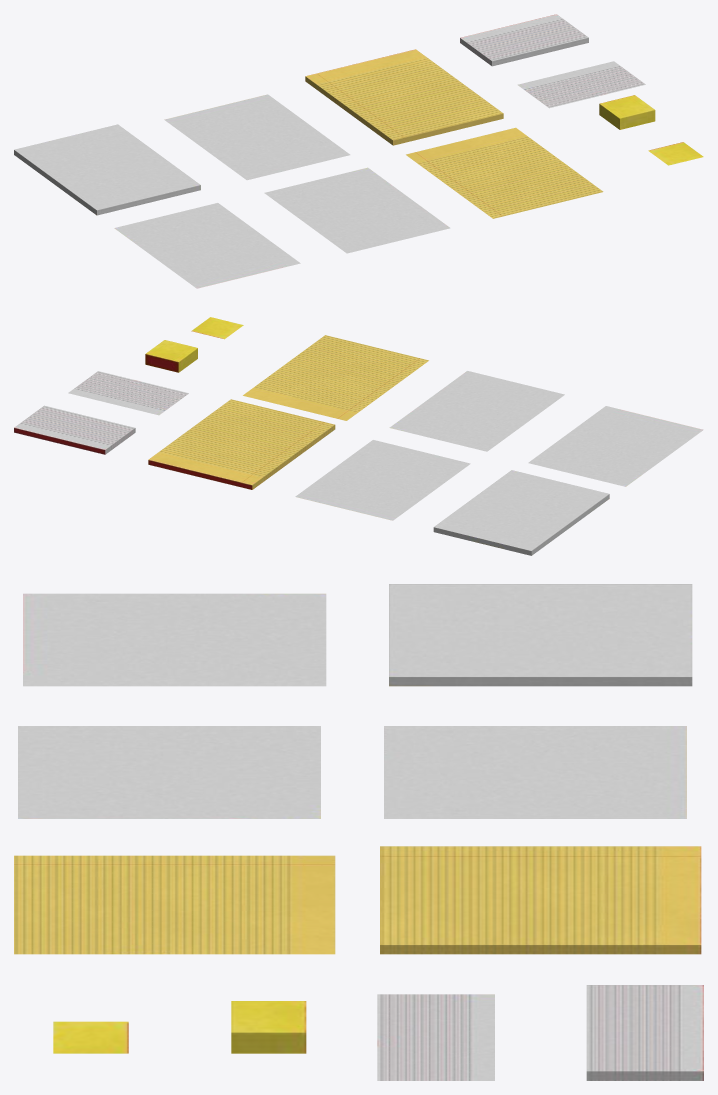
Rendered from office_notepads.glb.
3 views of the same model, one above another, from view 1: azimuth 30°, elevation 25°; view 2: azimuth 150°, elevation 25°; view 3: azimuth 270°, elevation 25° (orthographic). The views are drawn at different scales.
Parts seen in each view (by area): view 1: office_notepads_yellow_sheet; view 2: office_notepads_yellow_sheet; view 3: office_notepads_yellow_sheet.
Part boxes in pixels (x1=…): office_notepads_yellow_sheet: x1=14, y1=14, x2=703, y2=288; office_notepads_yellow_sheet: x1=14, y1=317, x2=703, y2=555; office_notepads_yellow_sheet: x1=14, y1=584, x2=703, y2=1080.
Size of the model in its own units: 1.1 by 0.0219 by 0.6598.
1 material, 1 textured.
